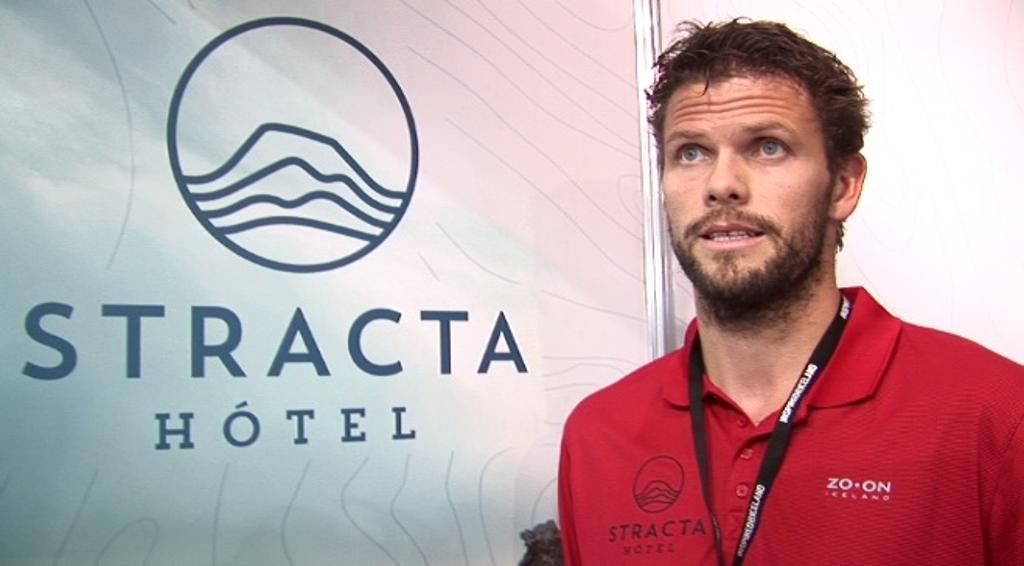face: (666, 76, 824, 312)
